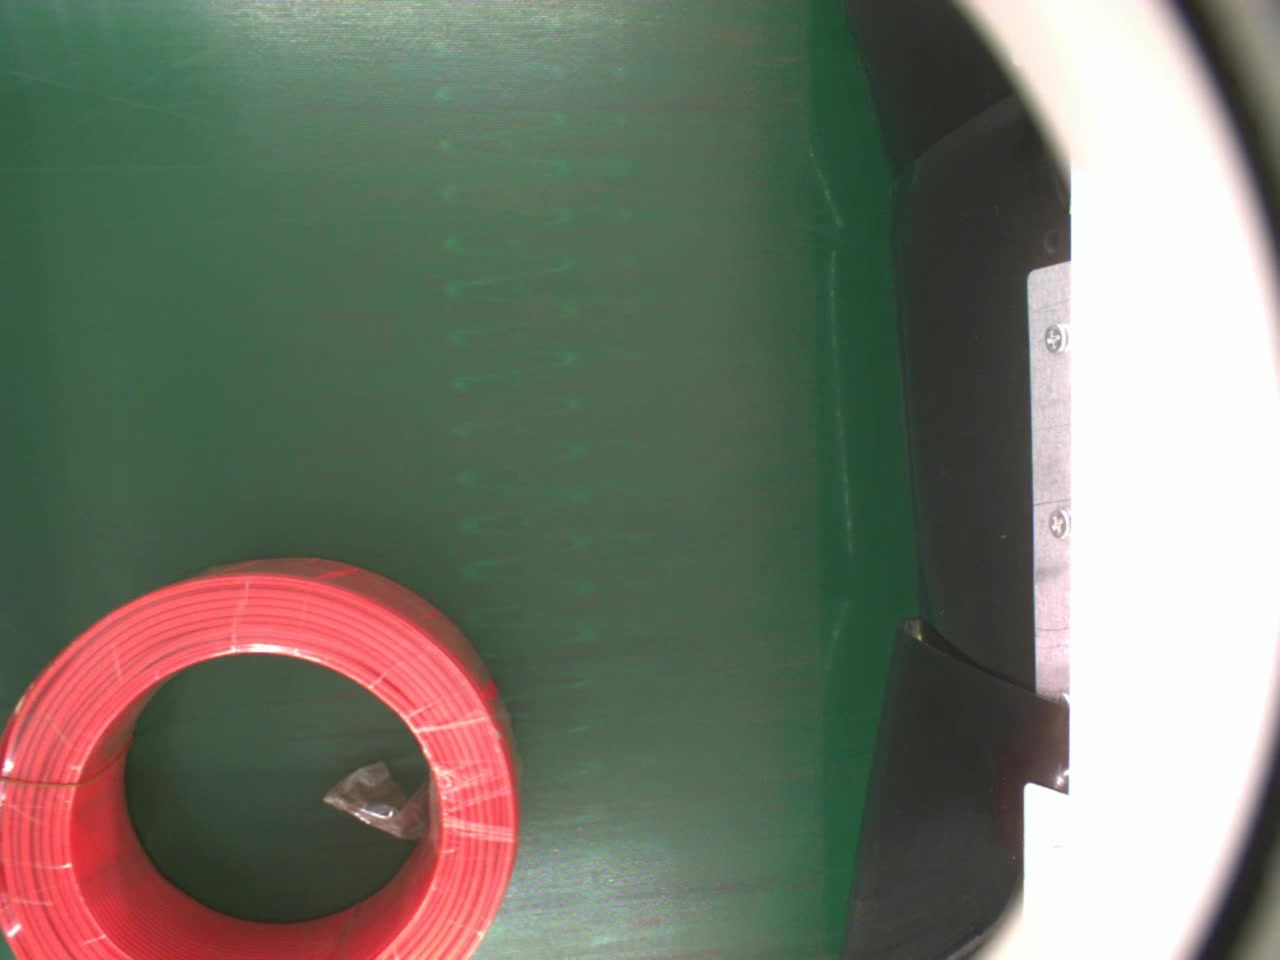red: (0, 555, 525, 960)
